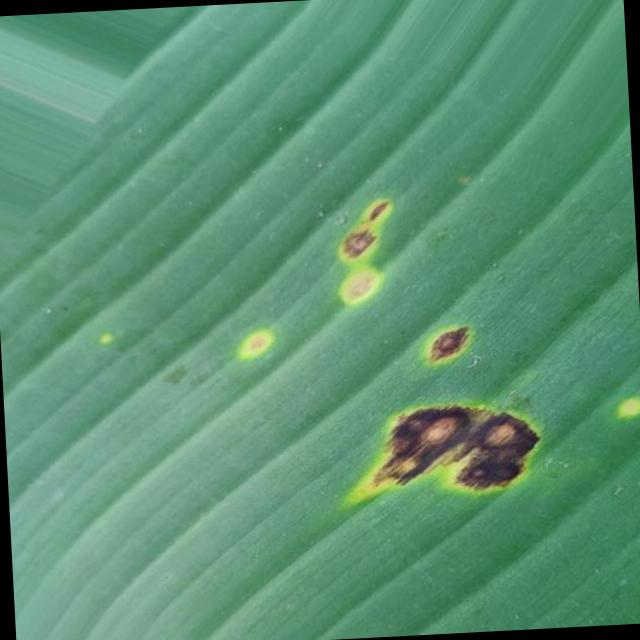Banana_Black_Sigatoka: (248, 142, 562, 510)
